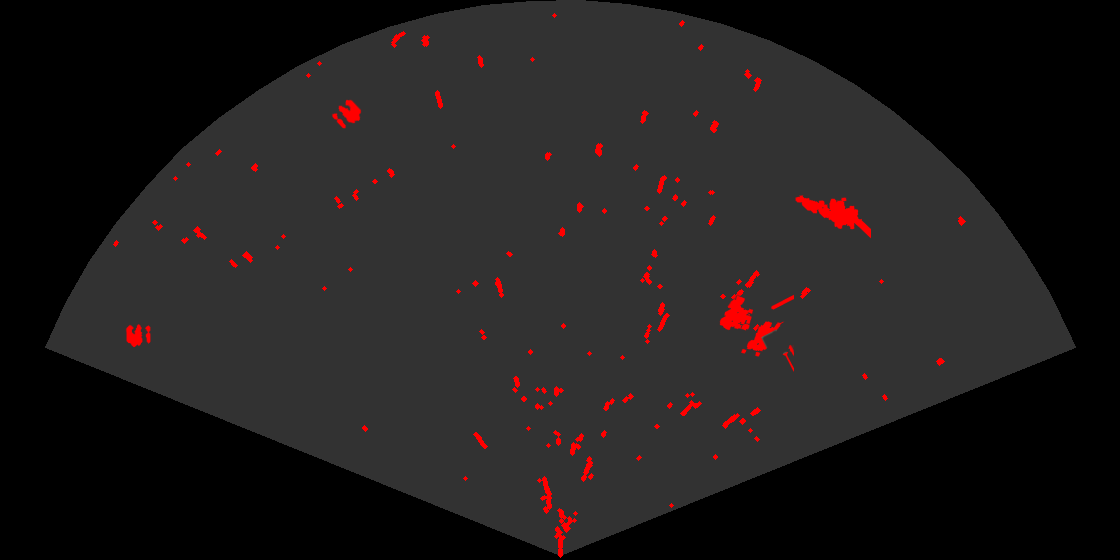ball: (330, 98, 363, 130), (124, 322, 152, 349)
cage: (718, 293, 794, 373)
frogman: (794, 194, 871, 240)
